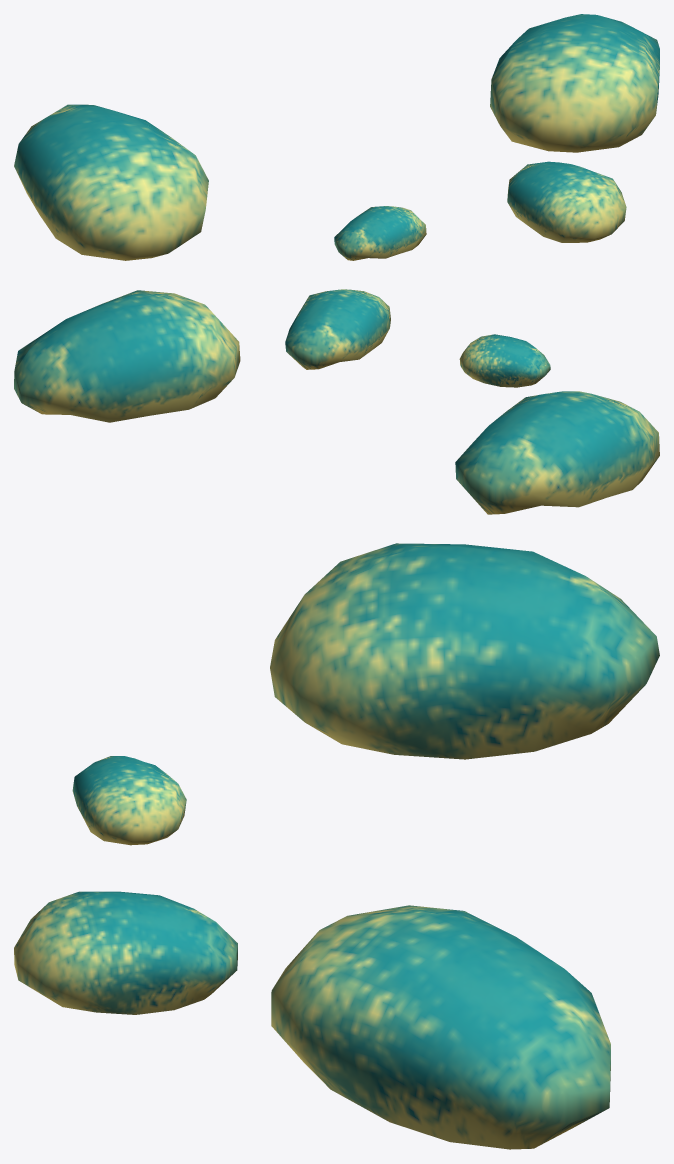
The model's file is Cartoon Seaweed_13-1-44.fbx.
The picture shows the model from 3 angles, top to bottom: view 1: azimuth 30°, elevation 25°; view 2: azimuth 150°, elevation 25°; view 3: azimuth 270°, elevation 25°; orthographic projection. The views are drawn at different scales.
Parts seen in each view (by area): view 1: Cartoon Seaweed_13.1.44; view 2: Cartoon Seaweed_13.1.44; view 3: Cartoon Seaweed_13.1.44.
Part boxes in pixels (x1,y1,x2,y2): Cartoon Seaweed_13.1.44: (14, 14, 659, 260); Cartoon Seaweed_13.1.44: (14, 289, 659, 514); Cartoon Seaweed_13.1.44: (14, 543, 659, 1149).
Size of the model in its own units: 40.96 by 7.14 by 23.03.
Materials: 1 (1 with a texture image).
